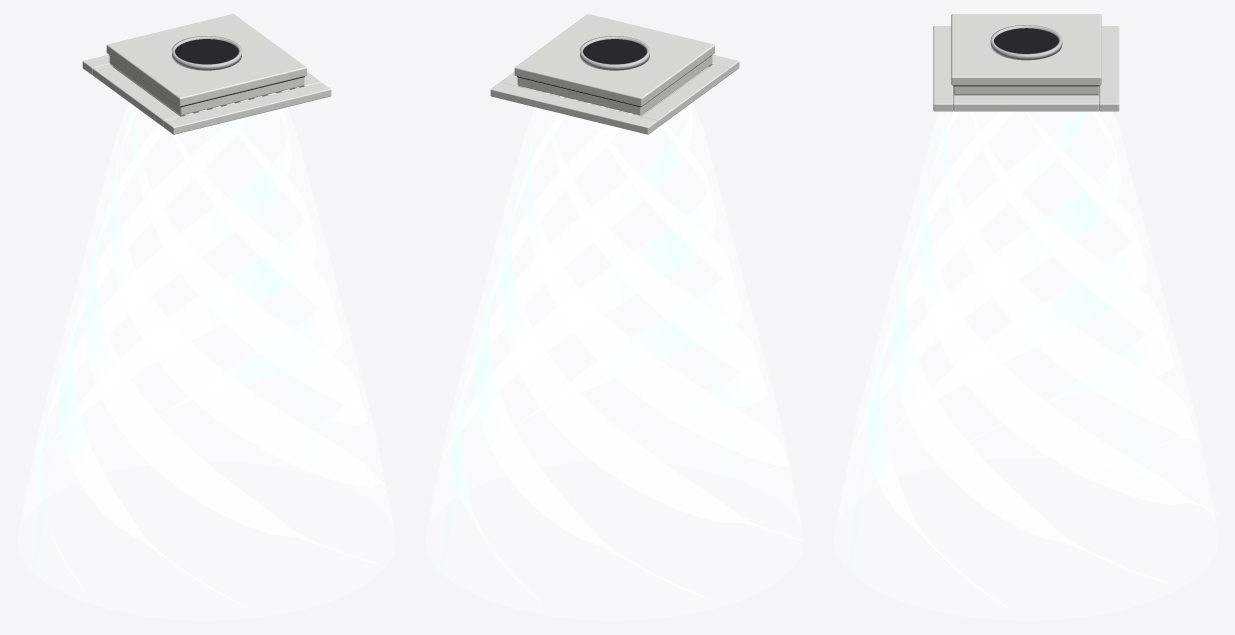
Rendered from vent_fan.glb.
The picture shows the model from 3 angles, left to right: view 1: azimuth 30°, elevation 25°; view 2: azimuth 150°, elevation 25°; view 3: azimuth 270°, elevation 25°; orthographic projection.
Parts seen in each view (by area): view 1: vent_fan_airflow, vent_fan_airflow_swirl, vent_fan_housing, vent_fan_grille, vent_fan_duct; view 2: vent_fan_airflow, vent_fan_airflow_swirl, vent_fan_housing, vent_fan_grille, vent_fan_duct; view 3: vent_fan_airflow, vent_fan_airflow_swirl, vent_fan_housing, vent_fan_grille, vent_fan_duct.
Part boxes in pixels (x1,y1,x2,y2): vent_fan_airflow: (17,93,395,620); vent_fan_airflow_swirl: (23,96,388,607); vent_fan_housing: (106,14,306,115); vent_fan_grille: (82,54,331,134); vent_fan_duct: (172,36,241,70); vent_fan_airflow: (425,92,803,620); vent_fan_airflow_swirl: (428,99,804,602); vent_fan_housing: (514,14,714,115); vent_fan_grille: (490,55,739,134); vent_fan_duct: (580,36,649,70); vent_fan_airflow: (833,111,1219,620); vent_fan_airflow_swirl: (840,111,1220,608); vent_fan_housing: (951,14,1101,94); vent_fan_grille: (933,26,1119,111); vent_fan_duct: (990,25,1062,60).
Bounding box in the file's own units: 0.5429 × 0.77 × 0.5415.
